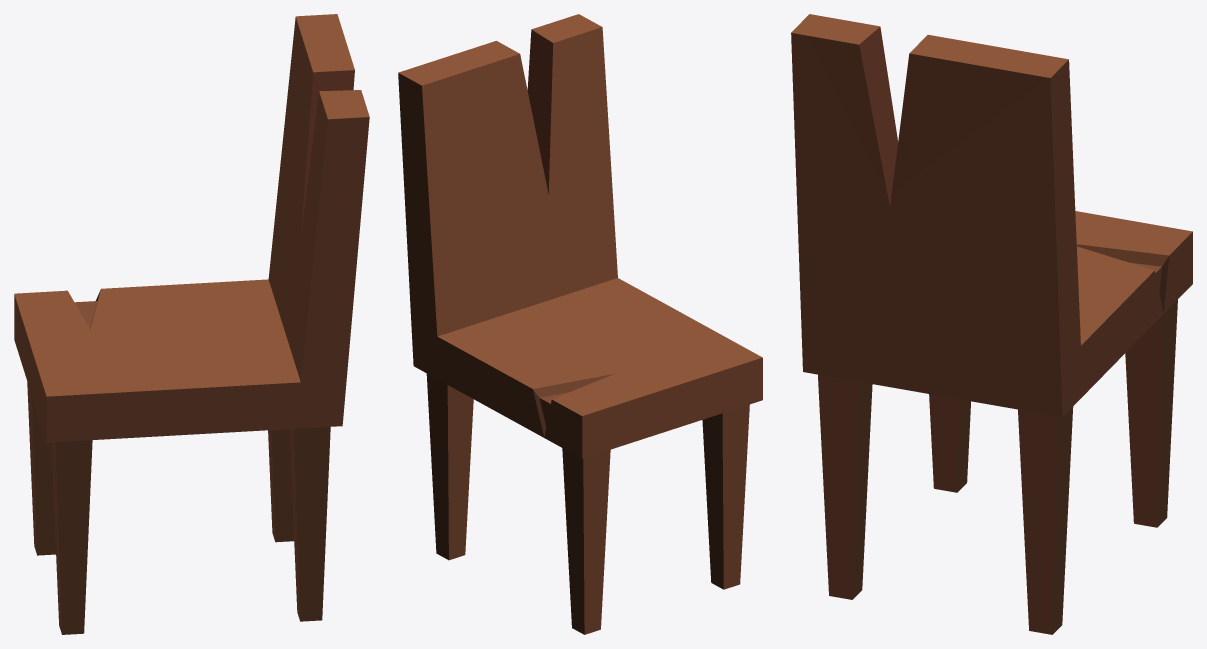
File: SA_Prop_Chair_Damaged_01.glb
3 views of the same model, side by side, from view 1: azimuth 30°, elevation 25°; view 2: azimuth 150°, elevation 25°; view 3: azimuth 270°, elevation 25° (orthographic). The views are drawn at different scales.
Visible parts, largest first — view 1: SA_Prop_Chair_Damaged_01; view 2: SA_Prop_Chair_Damaged_01; view 3: SA_Prop_Chair_Damaged_01.
Boxes of the visible parts, bbox=[...] form: SA_Prop_Chair_Damaged_01: bbox=[14, 14, 369, 634]; SA_Prop_Chair_Damaged_01: bbox=[398, 14, 762, 634]; SA_Prop_Chair_Damaged_01: bbox=[791, 14, 1192, 634].
Size of the model in its own units: 0.5736 by 0.8136 by 0.5105.
Materials: 1 (1 with a texture image).
